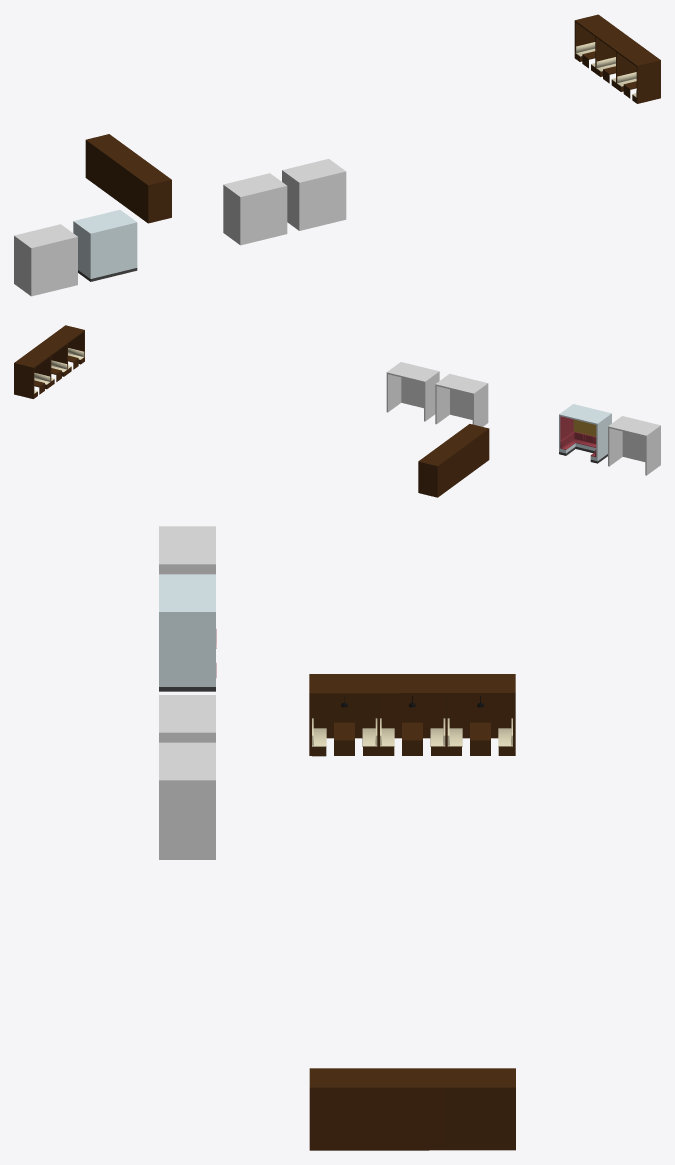
The model's file is Study_Box.fbx.
The picture shows the model from 3 angles, top to bottom: view 1: azimuth 30°, elevation 25°; view 2: azimuth 150°, elevation 25°; view 3: azimuth 270°, elevation 25°; orthographic projection. The views are drawn at different scales.
Visible parts, largest first — view 1: Study_Box_3, Study_Box_3_01, Study_Box02, Study_Box, Study_Box01, Study_Box03; view 2: Study_Box_3, Study_Box_3_01, Study_Box01, Study_Box, Study_Box02, Study_Box03; view 3: Study_Box_3_01, Study_Box_3, Study_Box01, Study_Box03, Study_Box, Study_Box02.
Part boxes in pixels (x1,y1,x2,y2): Study_Box_3: (85, 134, 171, 223); Study_Box_3_01: (574, 14, 660, 103); Study_Box02: (223, 173, 287, 245); Study_Box: (14, 224, 77, 296); Study_Box01: (73, 210, 137, 281); Study_Box03: (282, 159, 346, 230); Study_Box_3: (418, 424, 489, 497); Study_Box_3_01: (14, 325, 84, 398); Study_Box01: (559, 404, 611, 463); Study_Box: (608, 416, 660, 475); Study_Box02: (435, 373, 488, 426); Study_Box03: (386, 362, 439, 421); Study_Box_3_01: (309, 1068, 515, 1150); Study_Box_3: (309, 674, 515, 756); Study_Box01: (159, 574, 216, 691); Study_Box03: (159, 742, 215, 859); Study_Box: (159, 526, 215, 574); Study_Box02: (159, 695, 215, 742).
Size of the model in its own units: 46.86 by 3.2 by 12.99.
